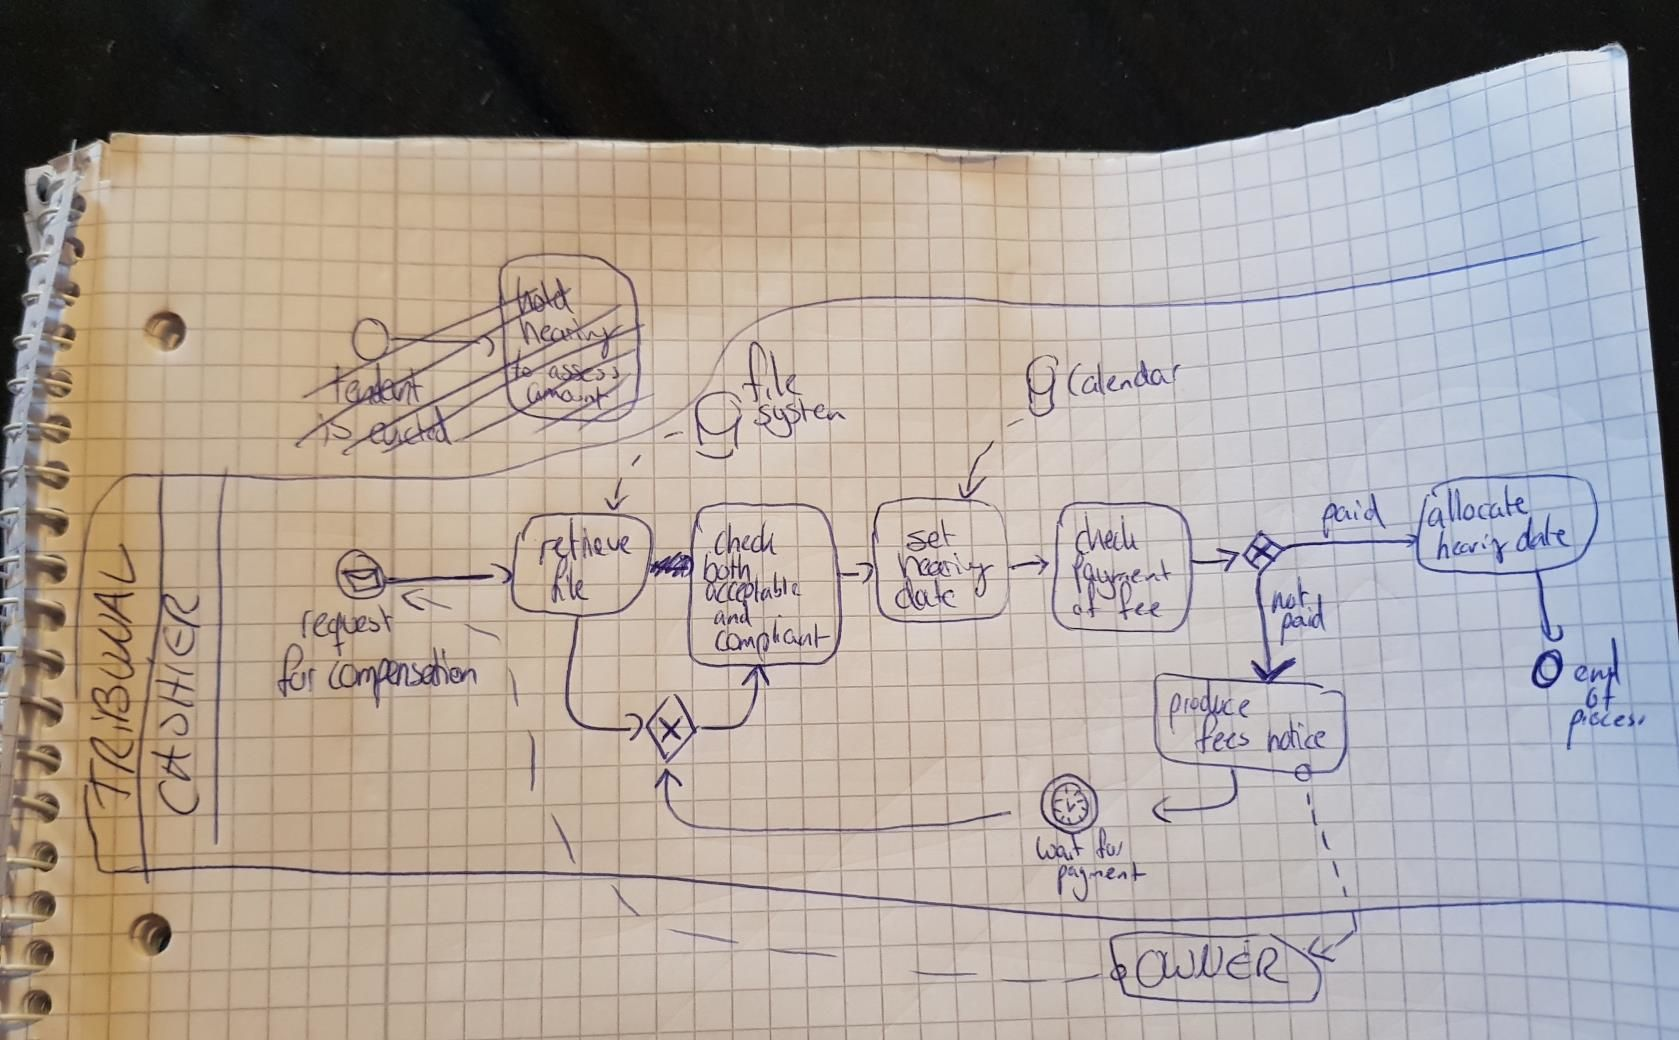CASHIER: (144, 588, 206, 824)
Calendar: (1063, 355, 1188, 404)
OWNER: (1129, 936, 1295, 994)
Payment: (1069, 548, 1175, 605)
TRIBUNAL: (79, 536, 144, 819)
acceptable: (702, 569, 807, 611)
allocate: (1422, 479, 1533, 533)
and: (708, 596, 758, 631)
both: (698, 548, 757, 589)
check: (1069, 507, 1145, 560), (709, 513, 784, 563)
compensation: (323, 643, 483, 715)
compliant: (710, 609, 836, 666)
date: (1510, 507, 1576, 558), (889, 575, 964, 617)
end: (1567, 632, 1627, 690)
fee: (1112, 576, 1168, 627)
fees: (1190, 707, 1254, 761)
file: (738, 335, 808, 408), (544, 553, 595, 611)
for: (272, 639, 324, 704), (1090, 822, 1131, 866)
hearing: (891, 548, 998, 605), (1431, 524, 1513, 569)
not: (1266, 572, 1313, 619)
notice: (1263, 708, 1331, 759)
of: (1579, 668, 1625, 719), (1069, 575, 1108, 623)
paid: (1316, 489, 1392, 545), (1277, 590, 1330, 653)
payment: (1052, 858, 1150, 907)
process: (1561, 705, 1653, 756)
produce: (1163, 675, 1254, 741)
request: (296, 599, 401, 662)
retrieve: (534, 515, 638, 570)
set: (899, 513, 959, 558)
system: (750, 391, 851, 444)
wait: (1031, 826, 1091, 865)
